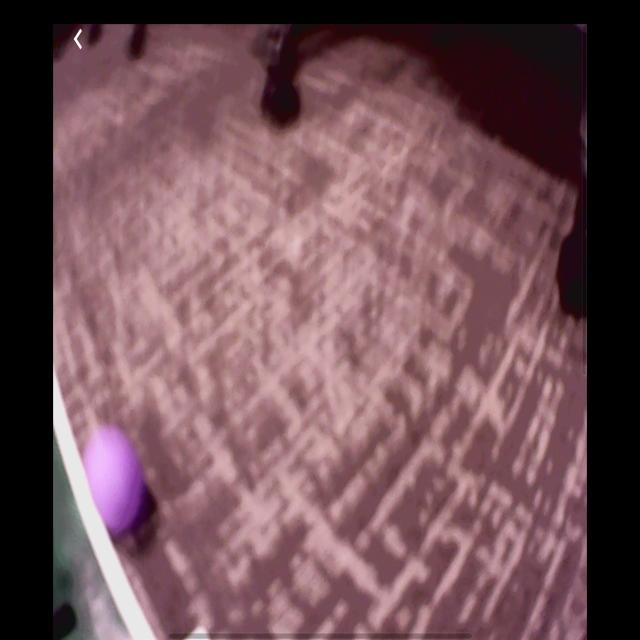ball: (81, 422, 153, 539)
